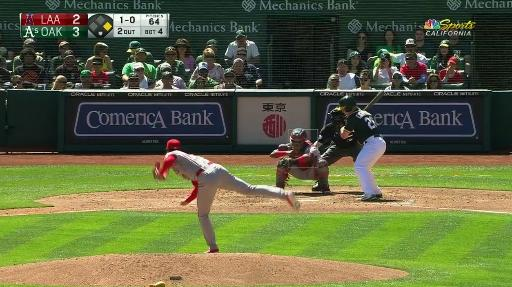pitcher: (154, 138, 301, 253)
